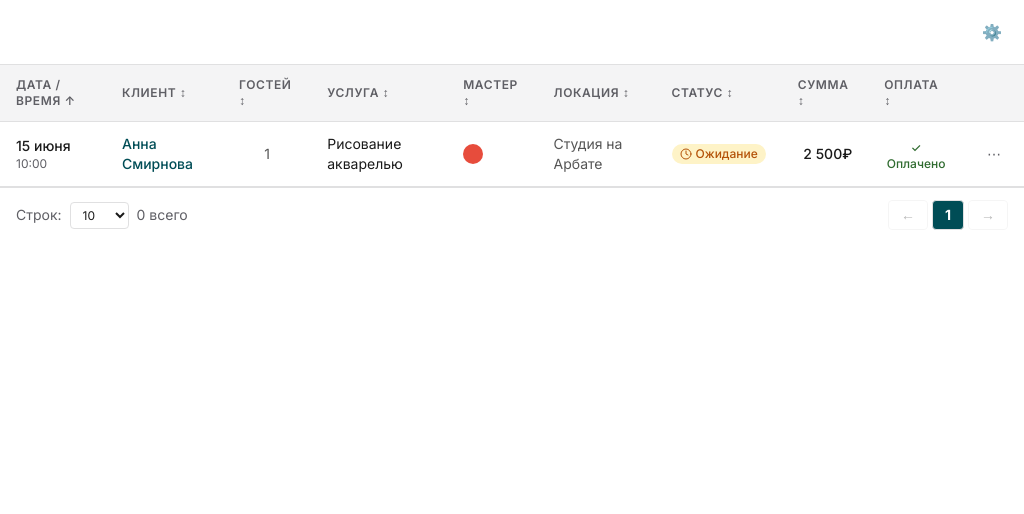
RecordsTable › detail panel shows Нет платежей when record has no payments
Click the text "Анна Смирнова".
click(512, 154)  # box [0,122,1023,186]
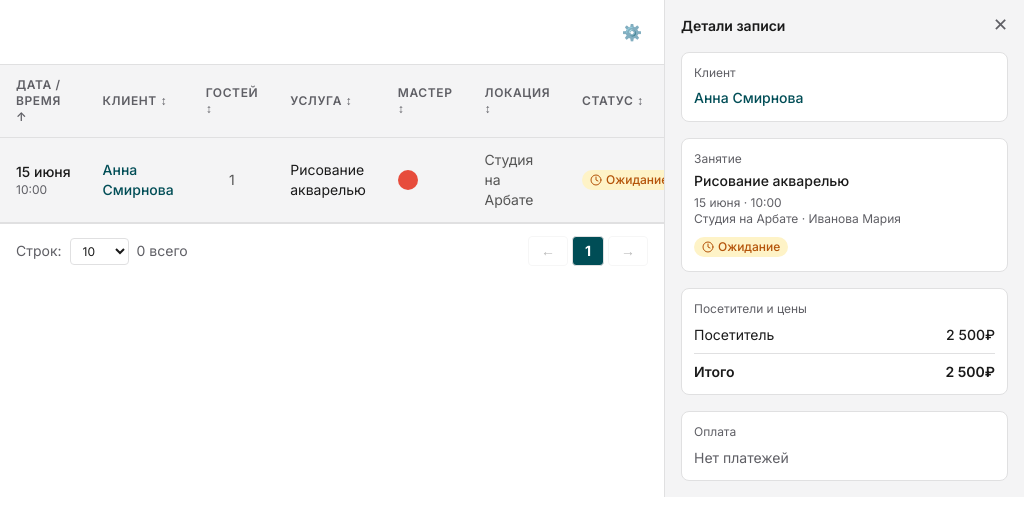
expect the text "Нет платежей" is shown: met, box [694,449,789,466]
